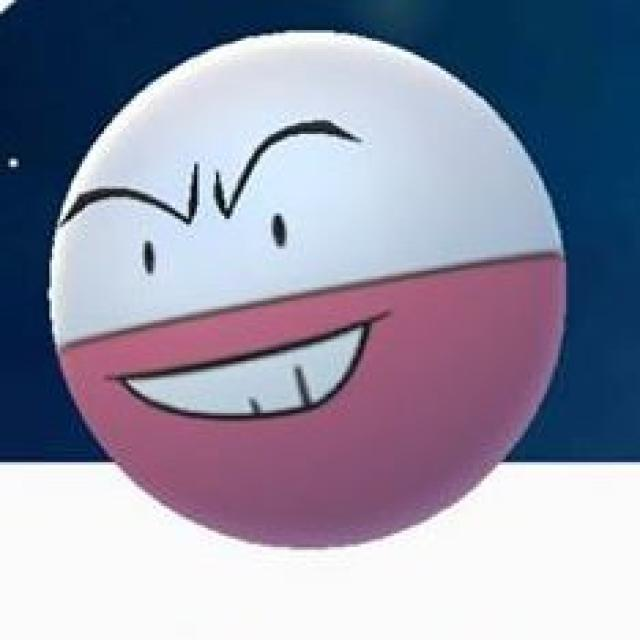Electrode: (50, 28, 563, 554)
